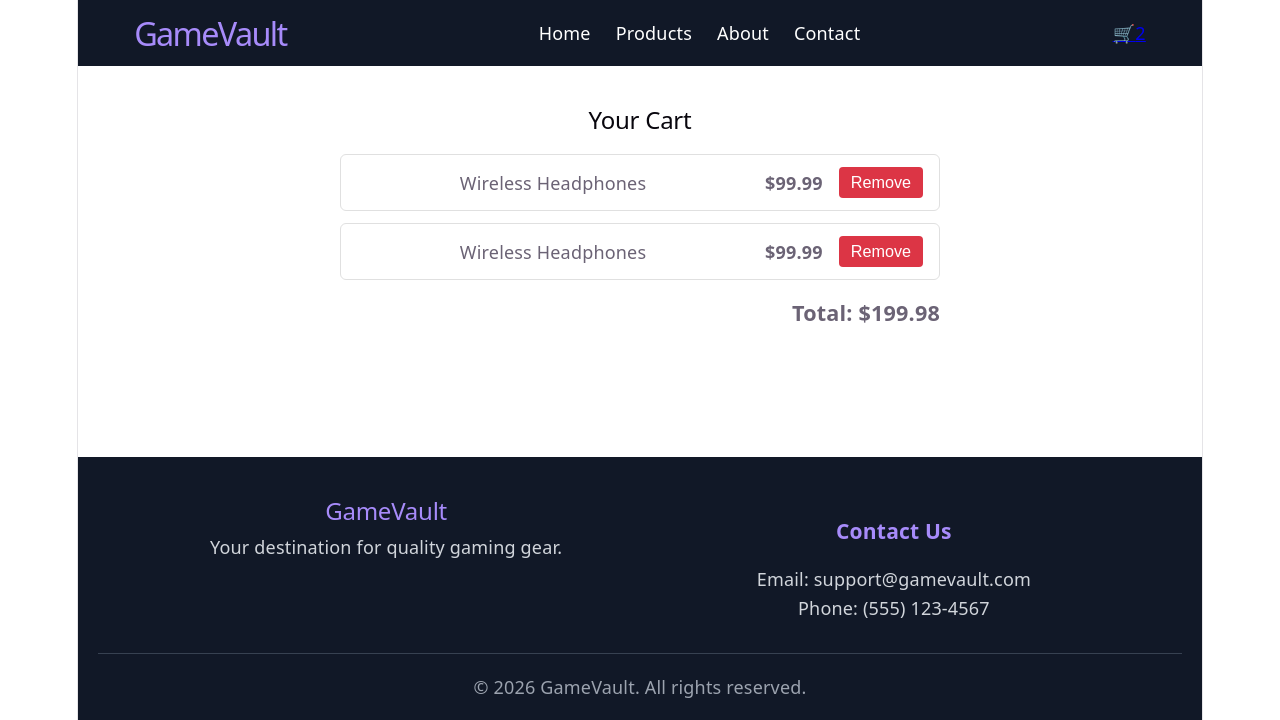
Scenario: App › removing one duplicate item removes only that entry
Click the 1st button "Remove". click: (881, 183)
box: top-left (839, 167), bottom-right (923, 198)
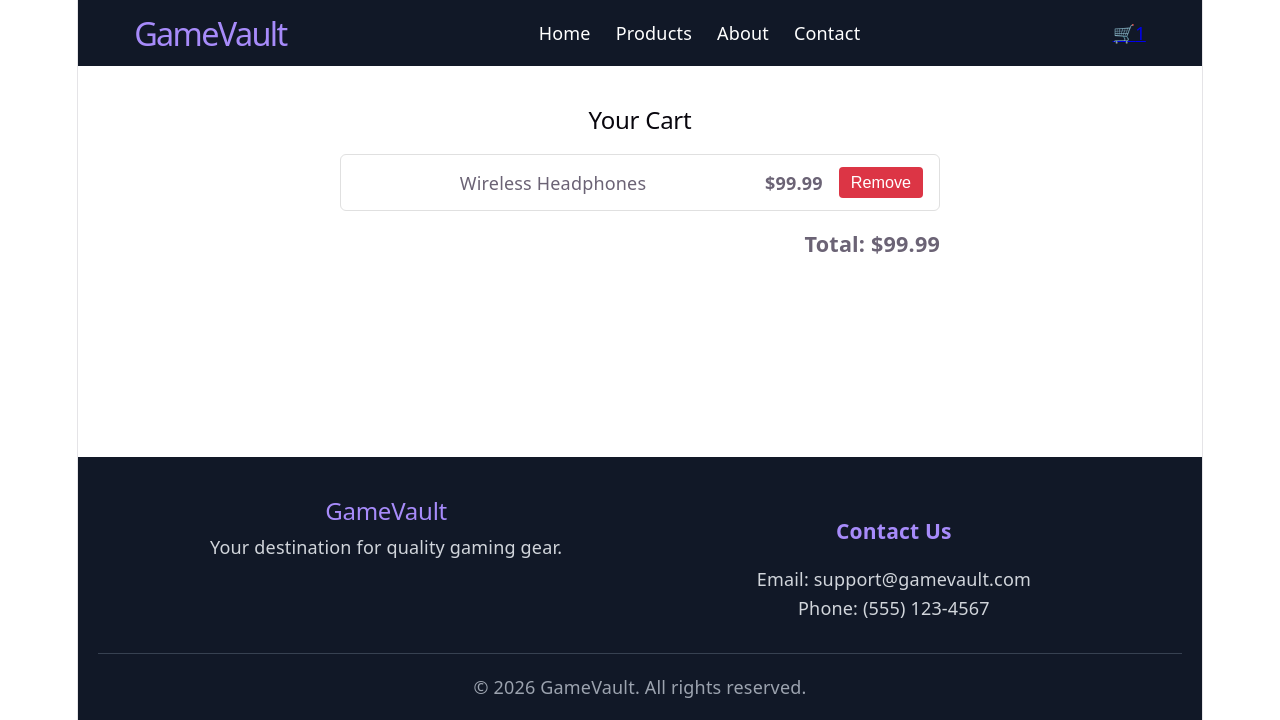
Expected: the number of buttons "Remove" is 1, top-left (839, 167), bottom-right (923, 198)
